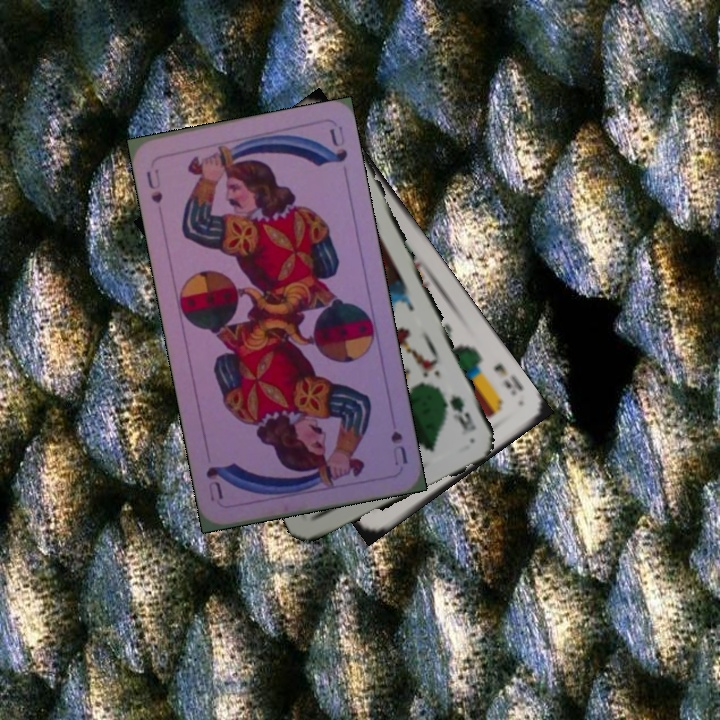EK: (489, 359, 526, 399)
GK: (438, 388, 479, 435)
SU: (386, 427, 411, 468), (142, 164, 165, 206)
